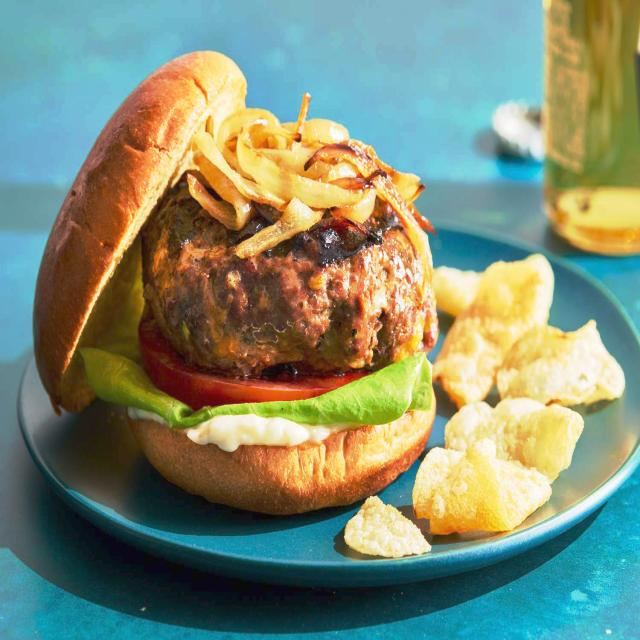burger: (36, 46, 439, 513)
